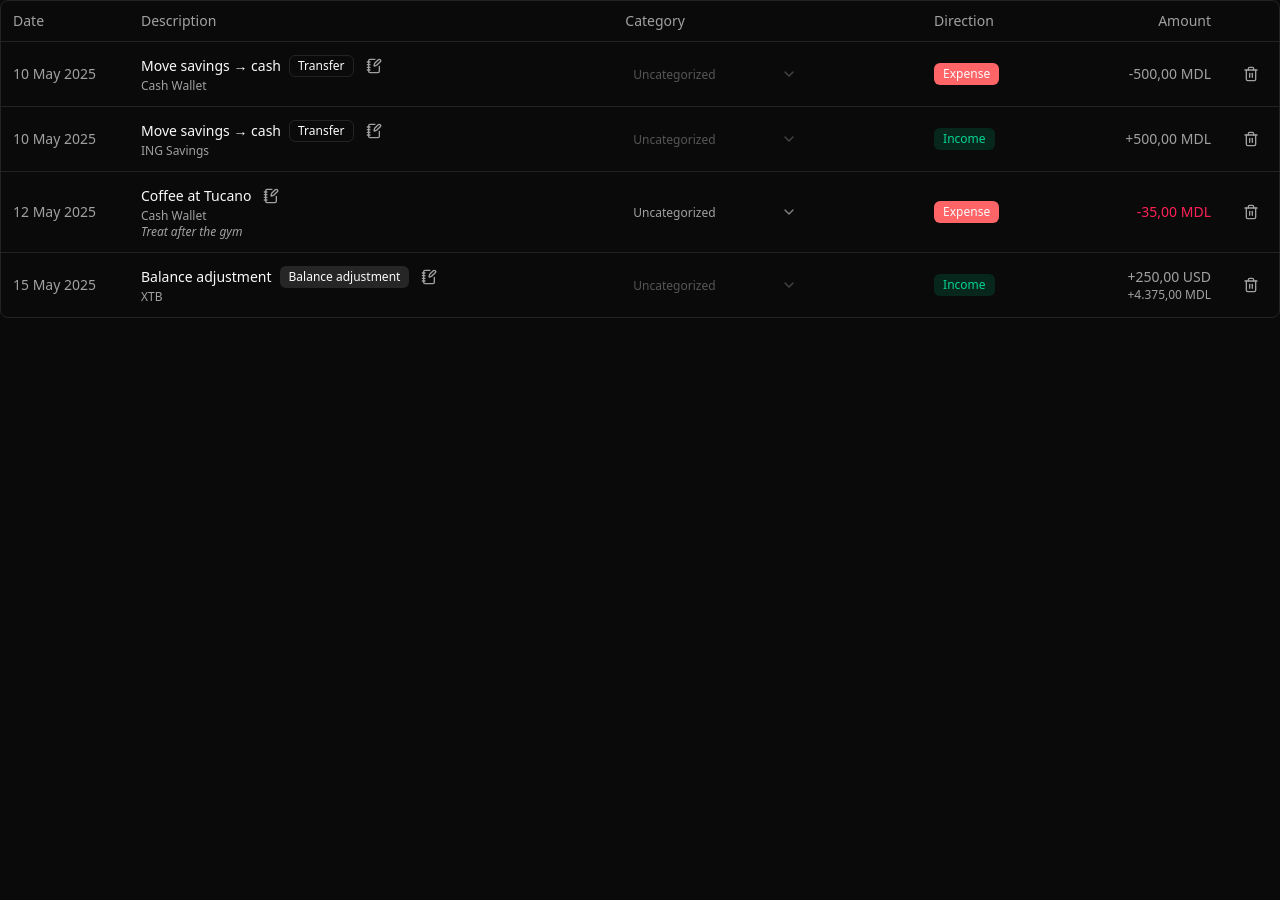
Test: TransactionsTable delete (allowDelete) › surfaces an error toast when the delete request fails
The image size is (1280, 900).
Click the button with test id "delete-transaction" at (1251, 74), box x1=1235 y1=58 x2=1267 y2=90
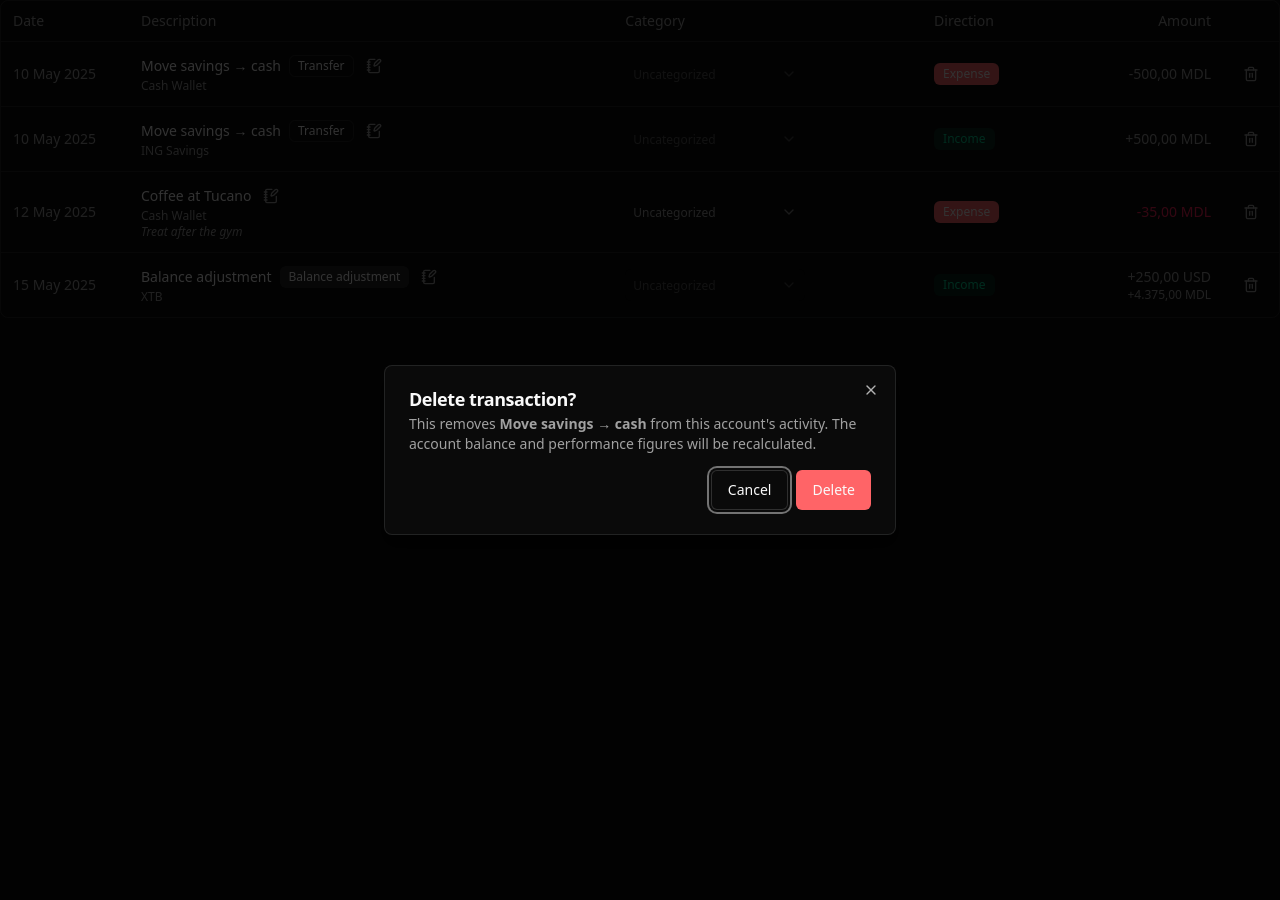
Click the button with test id "delete-transaction-confirm" at (834, 490), box x1=796 y1=470 x2=871 y2=510
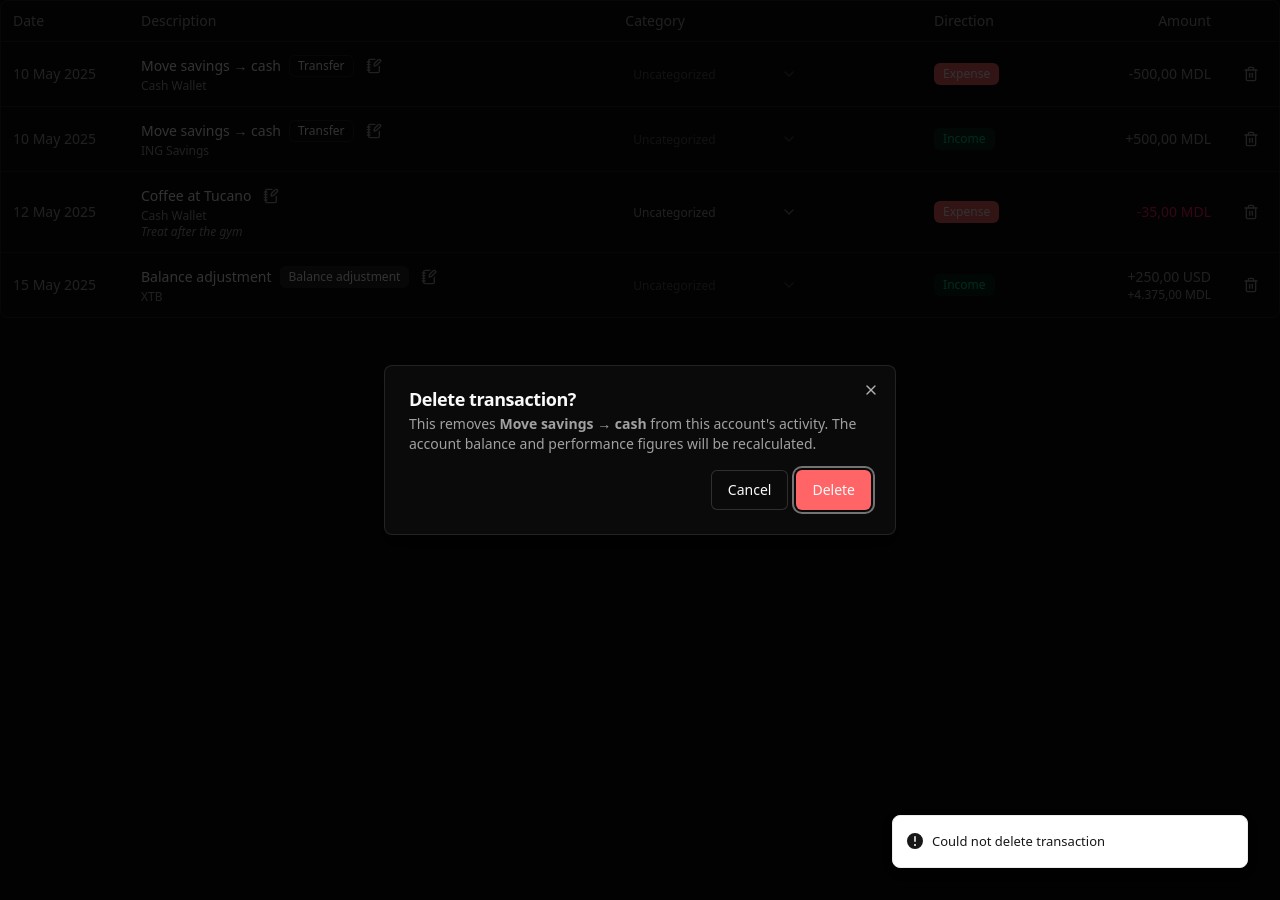
Now the text "Could not delete transaction" is shown, box x1=932 y1=832 x2=1105 y2=851
